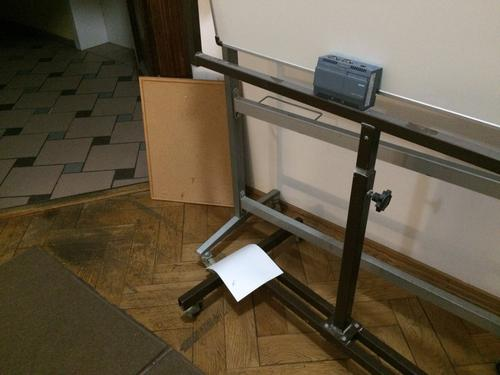iot2000: (312, 53, 383, 112)
